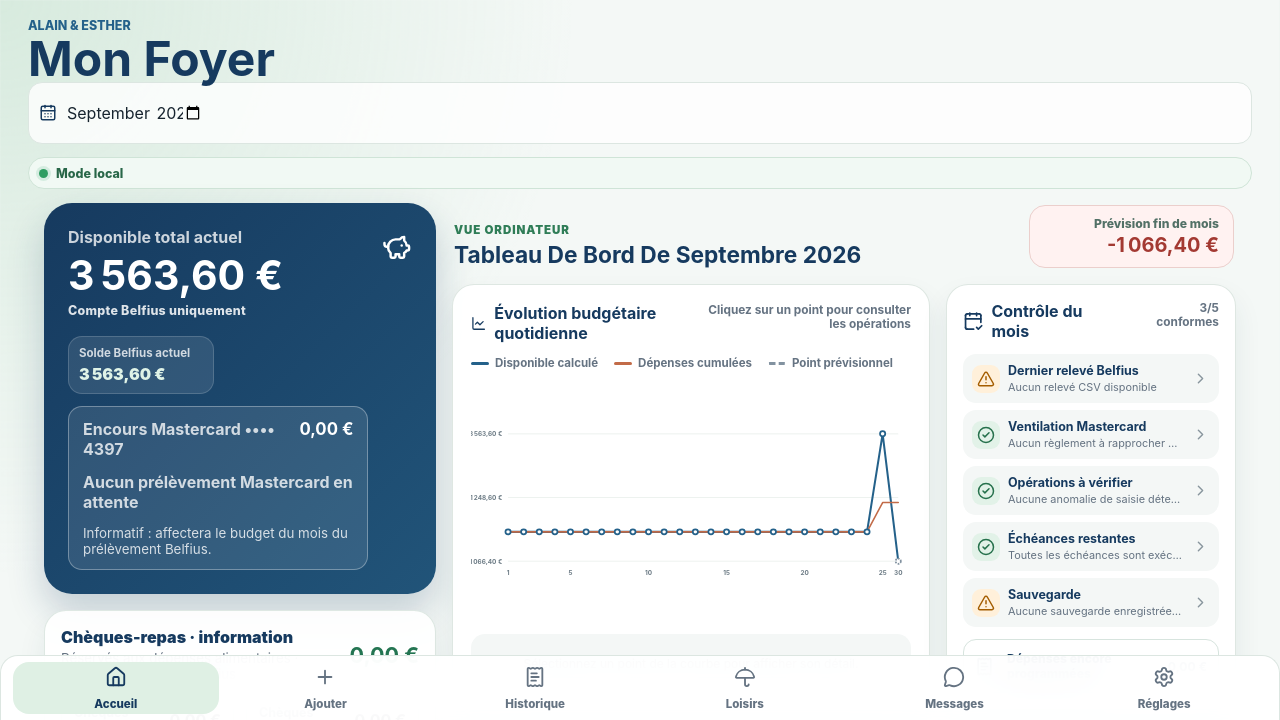
Test case: formulaire des opérations › normalise visuellement le montant 9.99 en 9,99 à la sortie du champ
Click the button "Ajouter" at (326, 688), box [223, 662, 428, 714]
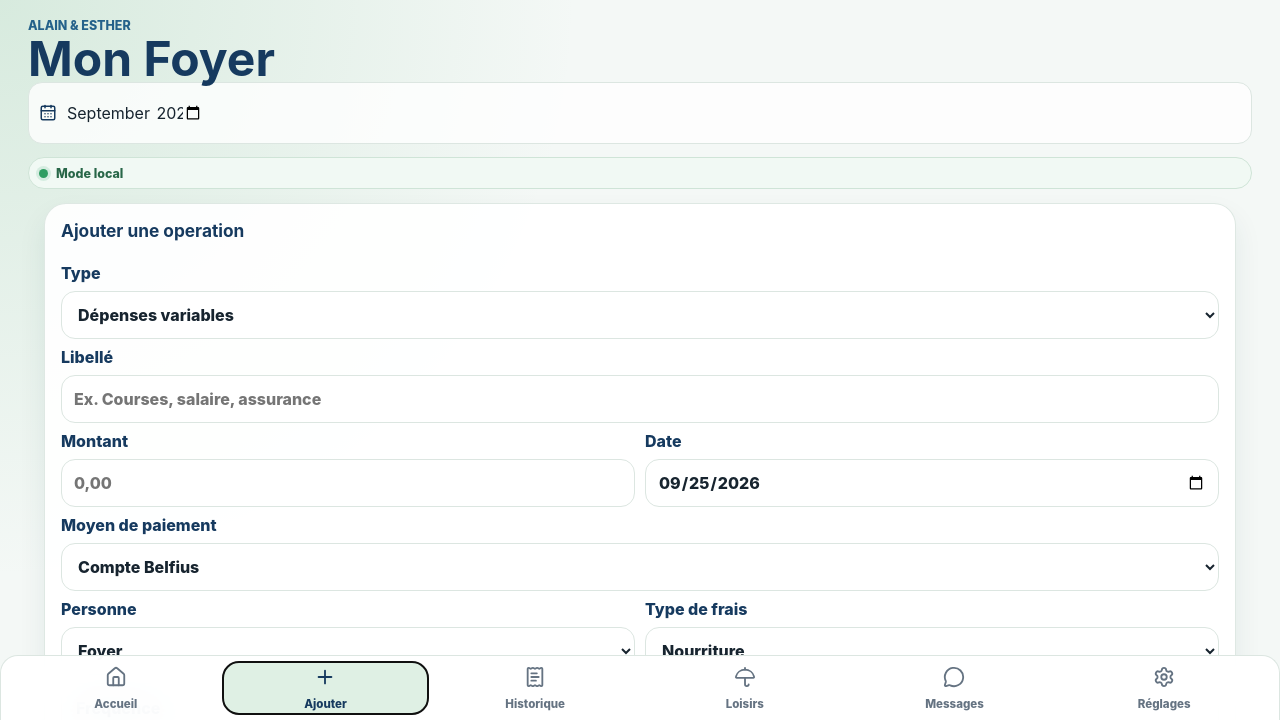
Type "9.99" into the field labelled "Montant" at (348, 483), box [61, 459, 635, 507]
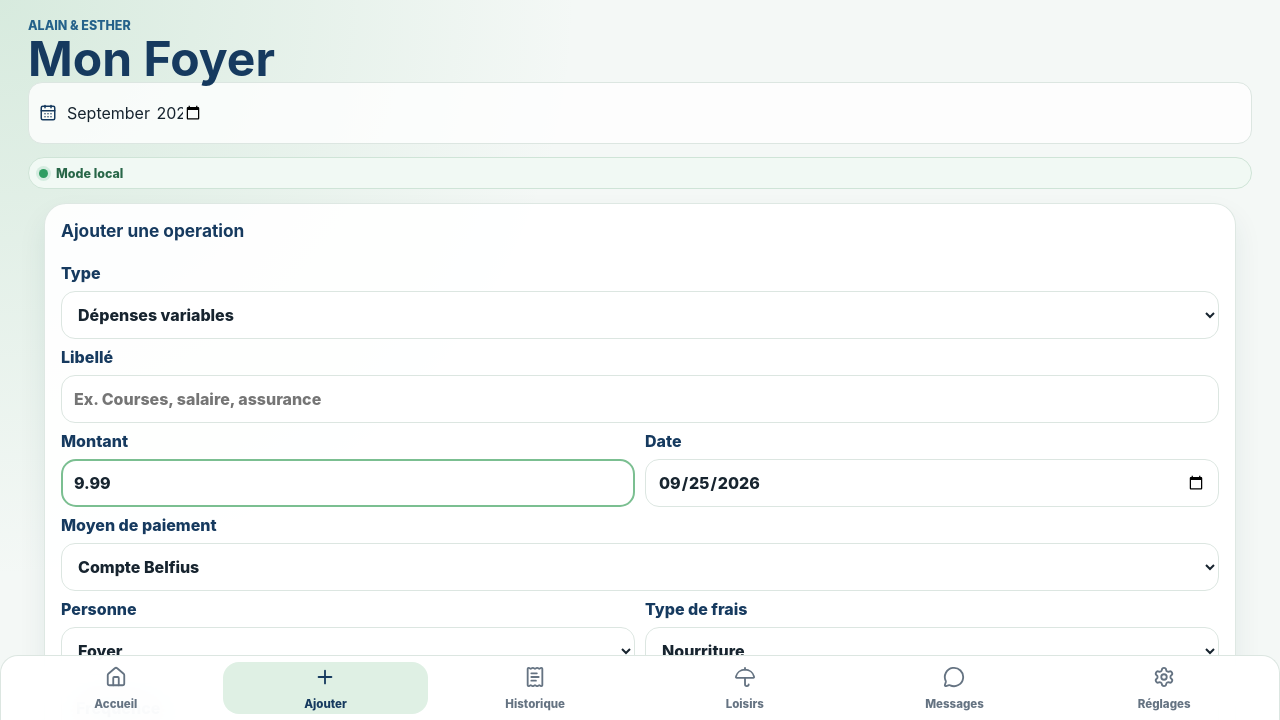
Press Tab
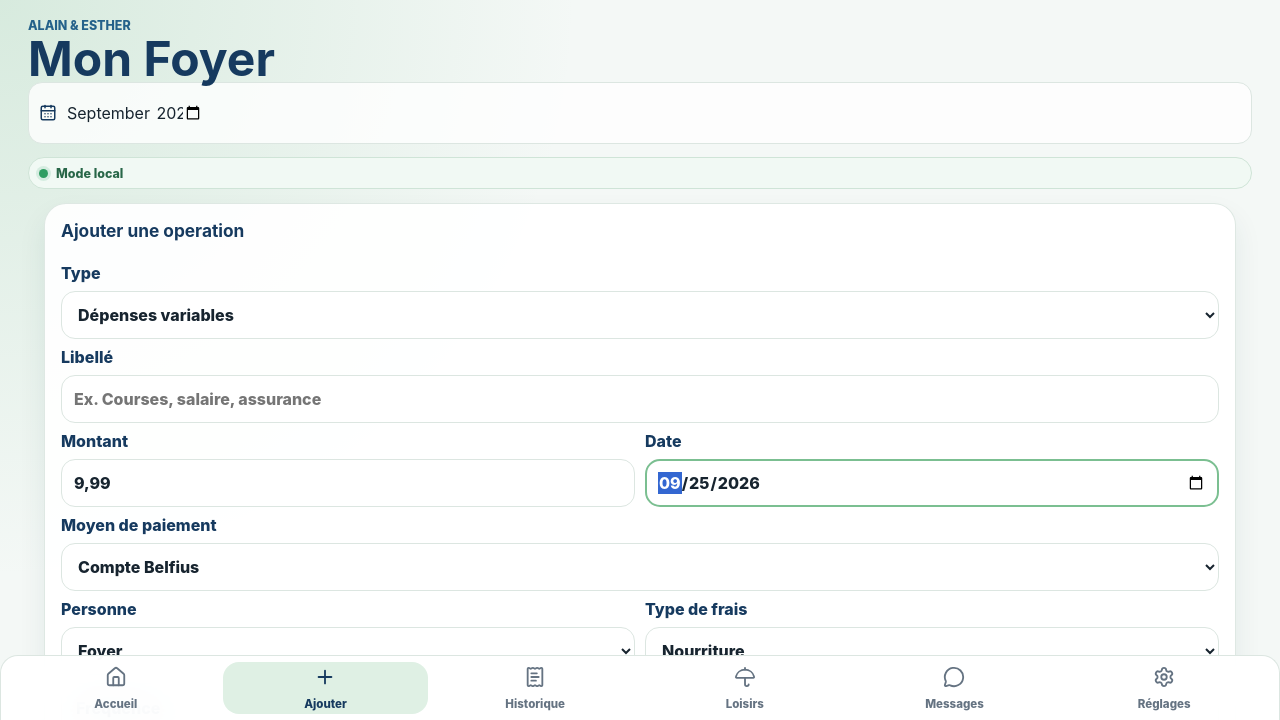
Now the field labelled "Montant" holds "9,99", box [61, 459, 635, 507]
